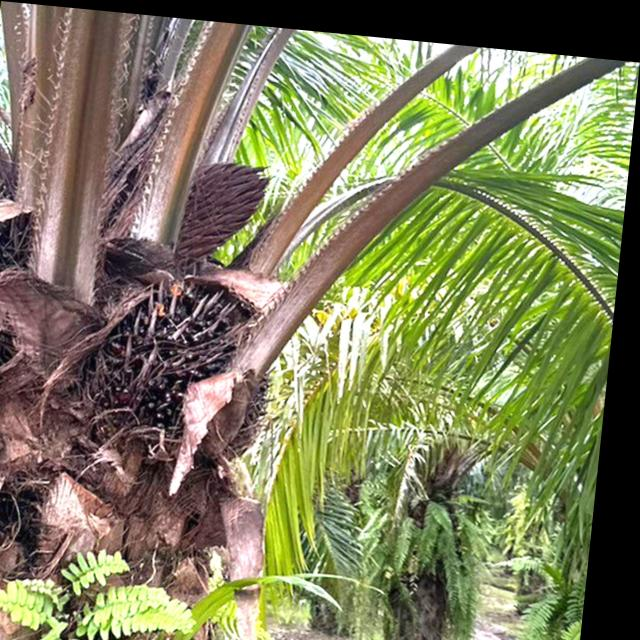ripe: (95, 257, 264, 435)
